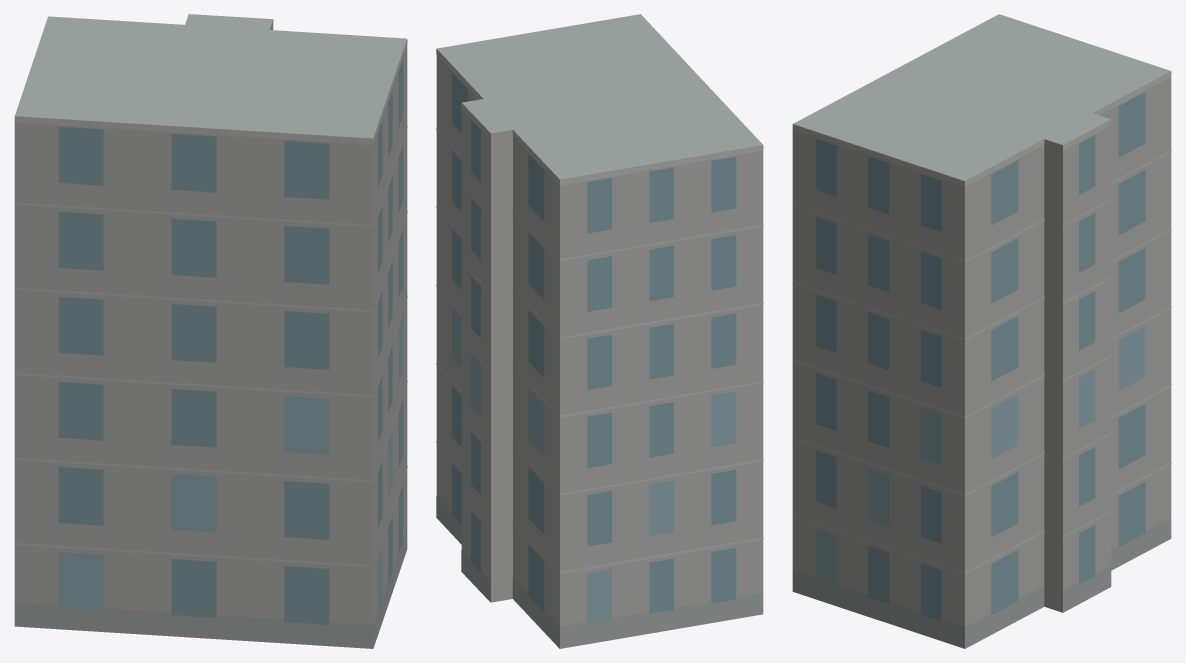
Rendered from survey-upis-32898341.glb.
The picture shows the model from 3 angles, left to right: view 1: azimuth 30°, elevation 25°; view 2: azimuth 150°, elevation 25°; view 3: azimuth 270°, elevation 25°; orthographic projection. The views are drawn at different scales.
Parts seen in each view (by area): view 1: survey-upis-32898341.tmp; view 2: survey-upis-32898341.tmp; view 3: survey-upis-32898341.tmp.
Part boxes in pixels (x1=…): survey-upis-32898341.tmp: x1=14, y1=14, x2=407, y2=648; survey-upis-32898341.tmp: x1=436, y1=14, x2=763, y2=648; survey-upis-32898341.tmp: x1=792, y1=14, x2=1171, y2=648.
Size of the model in its own units: 14.98 by 19.5 by 14.33.
